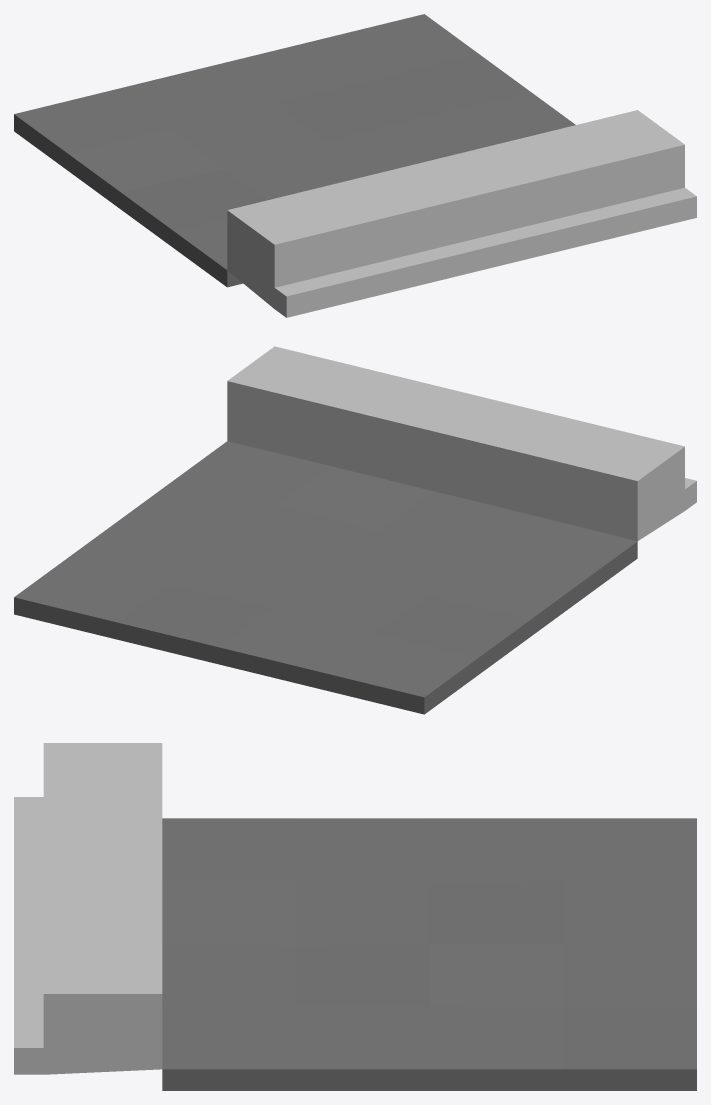
File: RoofFlatSmall.glb
3 renders of one model, top to bottom at view 1: azimuth 30°, elevation 25°; view 2: azimuth 150°, elevation 25°; view 3: azimuth 270°, elevation 25°, orthographic. The views are drawn at different scales.
Visible parts, largest first — view 1: RoofFlatSmall; view 2: RoofFlatSmall; view 3: RoofFlatSmall.
Part boxes in pixels (x1,y1,x2,y2): RoofFlatSmall: [14, 14, 696, 317]; RoofFlatSmall: [14, 346, 696, 714]; RoofFlatSmall: [14, 743, 696, 1090].
Bounding box in the file's own units: 1 × 0.18 × 1.15.
1 material, 1 textured.
